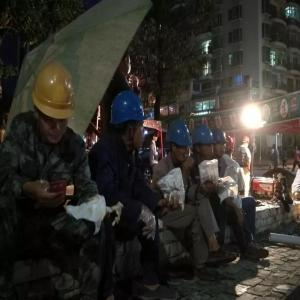blue: (112, 92, 147, 151), (169, 121, 192, 163), (194, 124, 215, 161), (213, 129, 227, 159)
red: (225, 135, 235, 158), (241, 135, 250, 148)
yellow: (37, 67, 76, 142)
